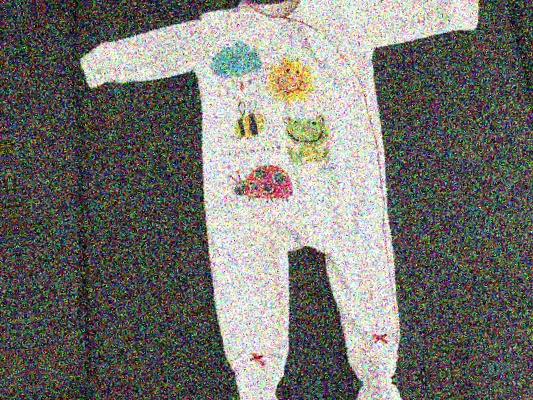Body: (61, 0, 533, 400), (109, 367, 533, 400)
